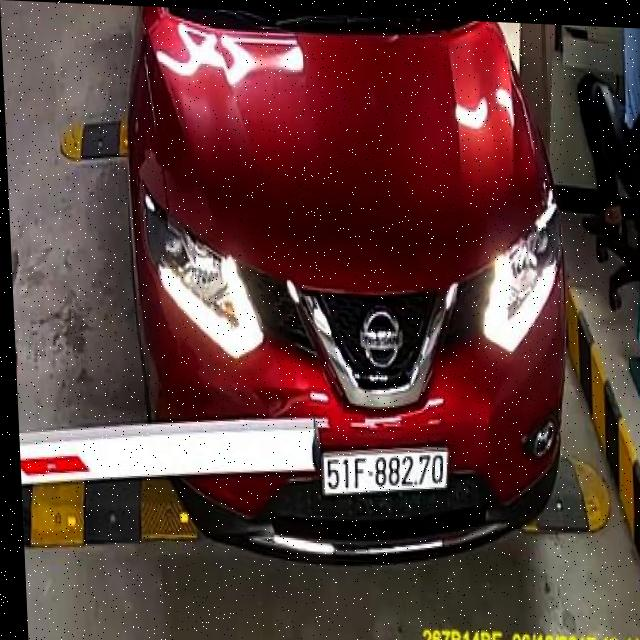car: (118, 5, 586, 581)
plate: (321, 447, 452, 500)
